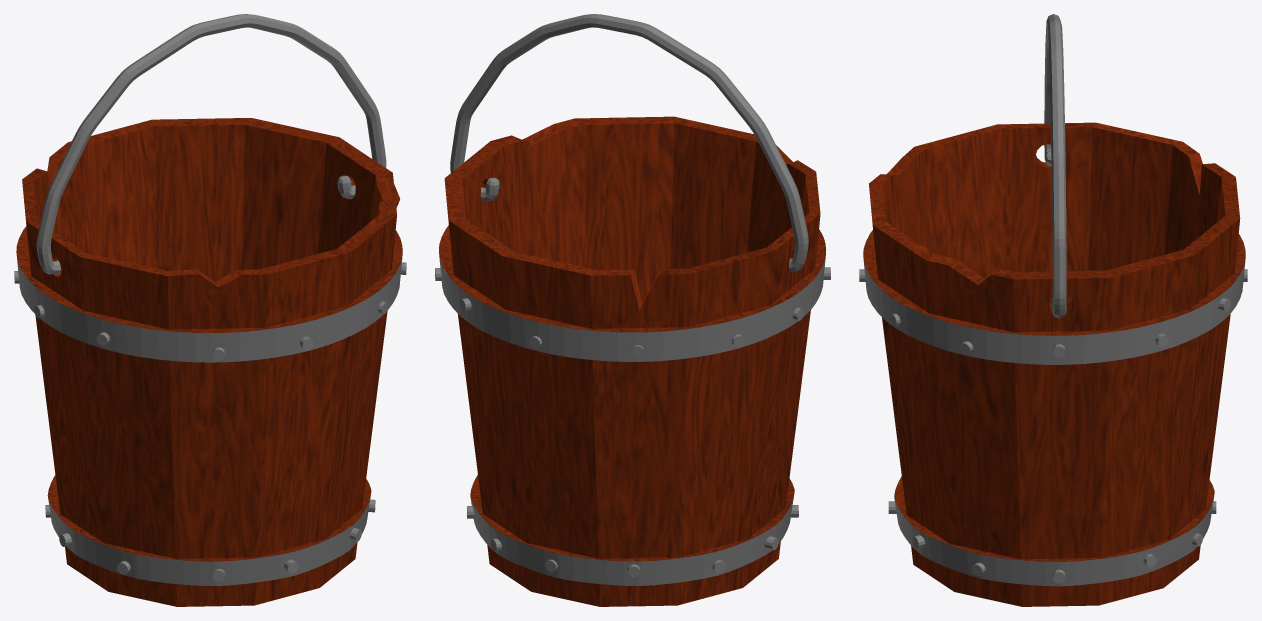
The model's file is kantatexture.fbx.
3 views of the same model, side by side, from view 1: azimuth 30°, elevation 25°; view 2: azimuth 150°, elevation 25°; view 3: azimuth 270°, elevation 25° (orthographic).
Visible parts, largest first — view 1: Cylinder, Cube, Cylinder.009; view 2: Cylinder, Cube, Cylinder.009; view 3: Cylinder, Cube, Cylinder.009.
Part boxes in pixels (x1=…): Cylinder: x1=16, y1=118, x2=402, y2=606; Cube: x1=36, y1=14, x2=386, y2=274; Cylinder.009: x1=14, y1=262, x2=406, y2=581; Cylinder: x1=439, y1=116, x2=825, y2=606; Cube: x1=450, y1=14, x2=808, y2=271; Cylinder.009: x1=435, y1=267, x2=830, y2=577; Cylinder: x1=863, y1=122, x2=1245, y2=606; Cube: x1=1044, y1=14, x2=1066, y2=318; Cylinder.009: x1=859, y1=269, x2=1247, y2=583.
Bounding box in the file's own units: 212 × 301 × 204.
